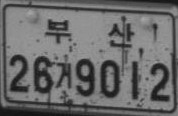0: (99, 58, 120, 99)
1: (125, 60, 145, 100)
2: (148, 61, 170, 102), (8, 53, 29, 93)
6: (32, 54, 53, 93)
9: (75, 57, 95, 96)
거: (54, 61, 73, 89)
부산_D: (43, 17, 135, 48)
